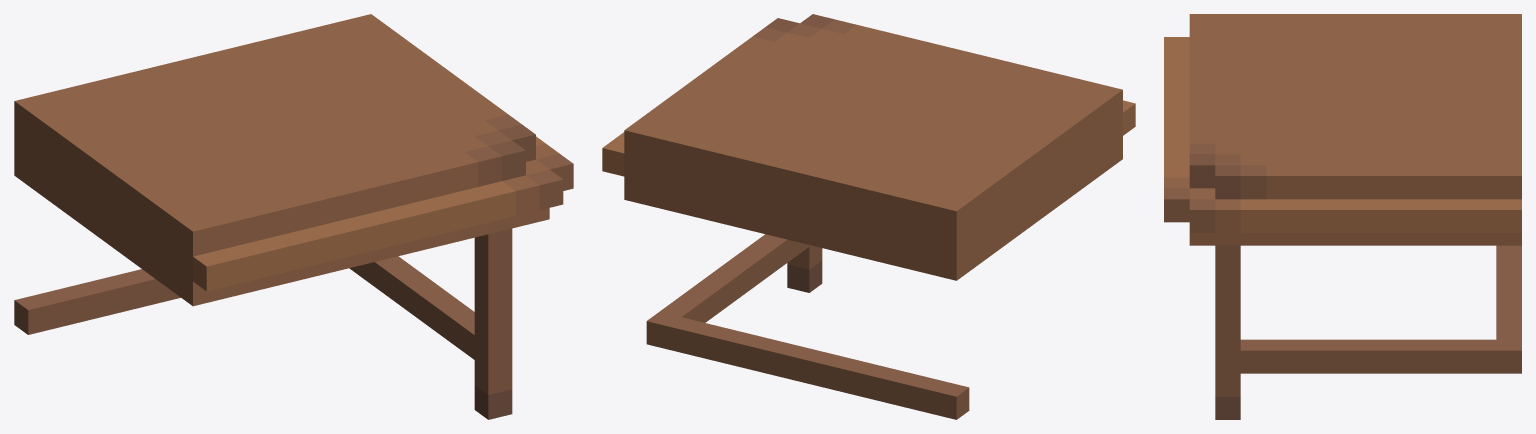
File: Interior_Furniture_Table_Piece_Big_09.obj
3 views of the same model, side by side, from view 1: azimuth 30°, elevation 25°; view 2: azimuth 150°, elevation 25°; view 3: azimuth 270°, elevation 25° (orthographic). The views are drawn at different scales.
Size of the model in its own units: 1.6 by 1.1 by 1.4.
Materials: 1 (1 with a texture image).
